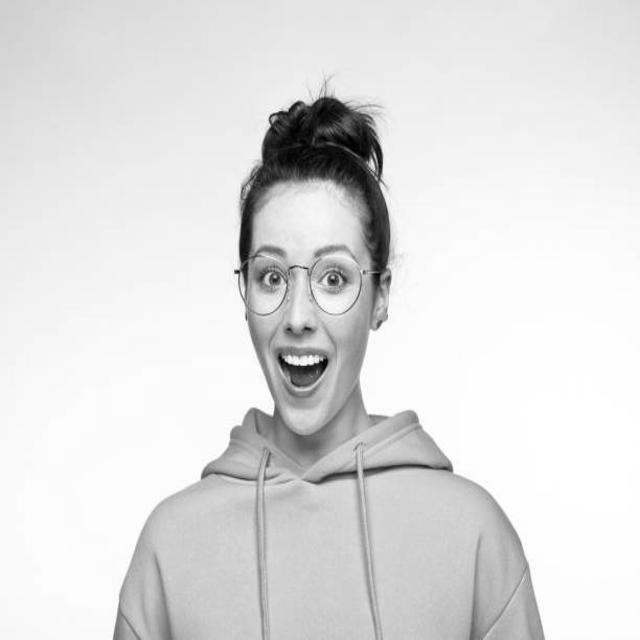Surprised: (246, 183, 370, 437)
